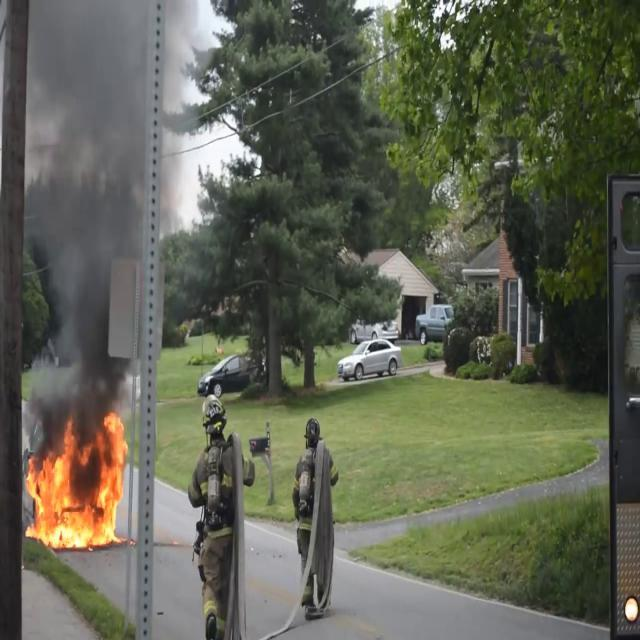Fire: (24, 410, 132, 552)
Smoke: (24, 2, 158, 423)
